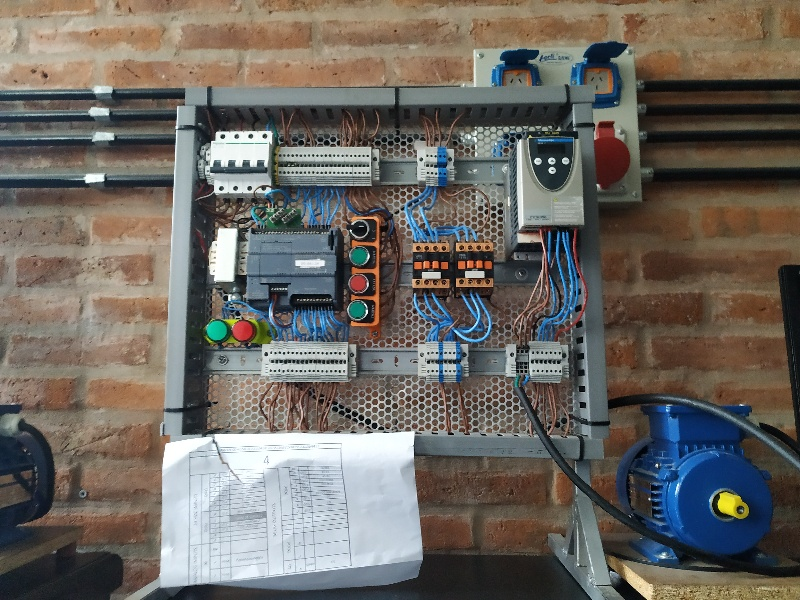Tablero 4: (189, 97, 592, 451)
